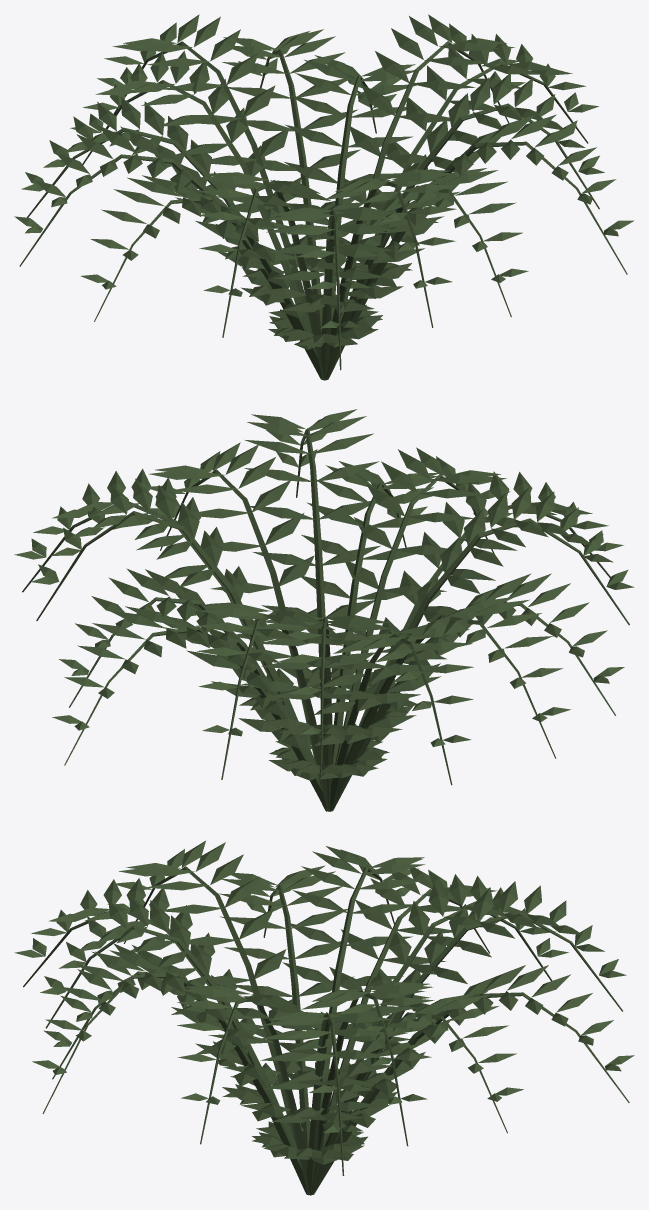
File: fern_bed.glb
3 renders of one model, top to bottom at view 1: azimuth 30°, elevation 25°; view 2: azimuth 150°, elevation 25°; view 3: azimuth 270°, elevation 25°, orthographic. The views are drawn at different scales.
Visible parts, largest first — view 1: fern_bed; view 2: fern_bed; view 3: fern_bed.
Part boxes in pixels (bbox=[...]): fern_bed: bbox=[14, 14, 634, 380]; fern_bed: bbox=[14, 409, 634, 811]; fern_bed: bbox=[14, 840, 634, 1195].
Bounding box in the file's own units: 0.8886 × 0.4393 × 0.8826.
